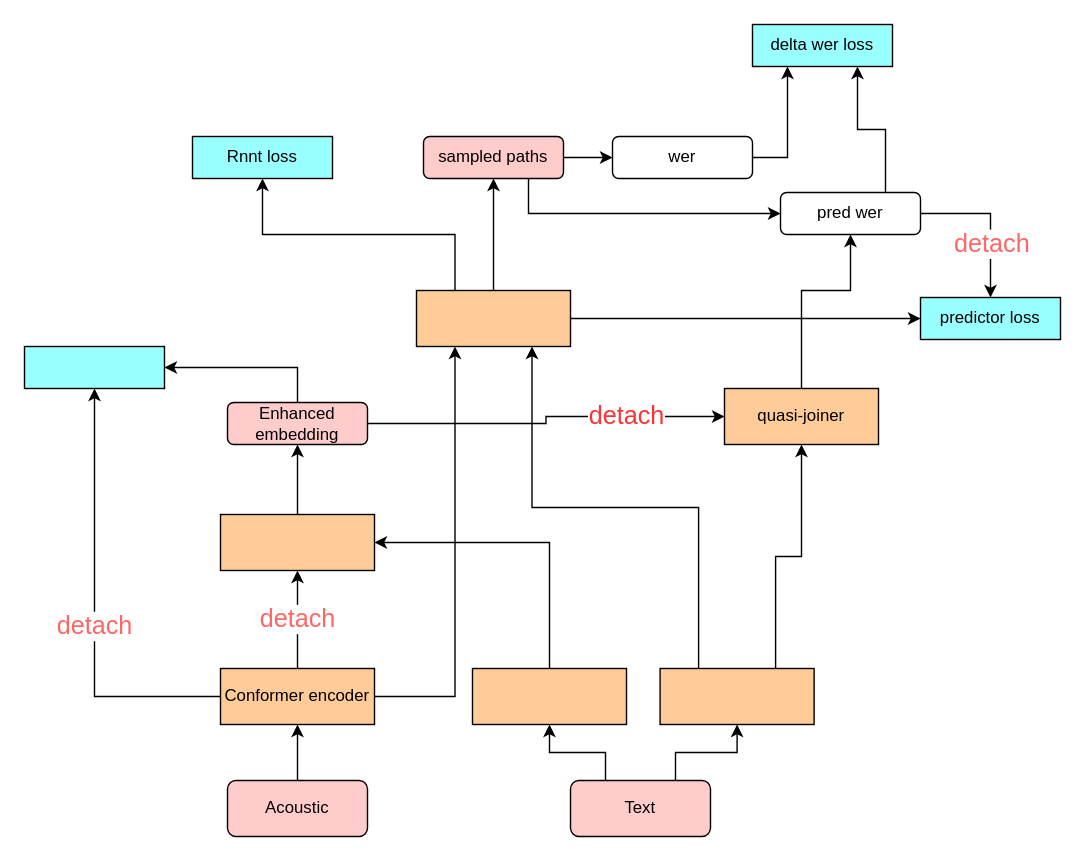
This 1085x861 diagram has some shape labels left out. Here are the shapes that lost their labels. From the top down, the centre of each, then its label:
At point 492,317: "joiner network".
At point 93,366: "L2 loss".
At point 296,541: "Encode text and acoustic embedding".
At point 548,695: "Transformer LM".
At point 736,695: "Stateless decoder".
